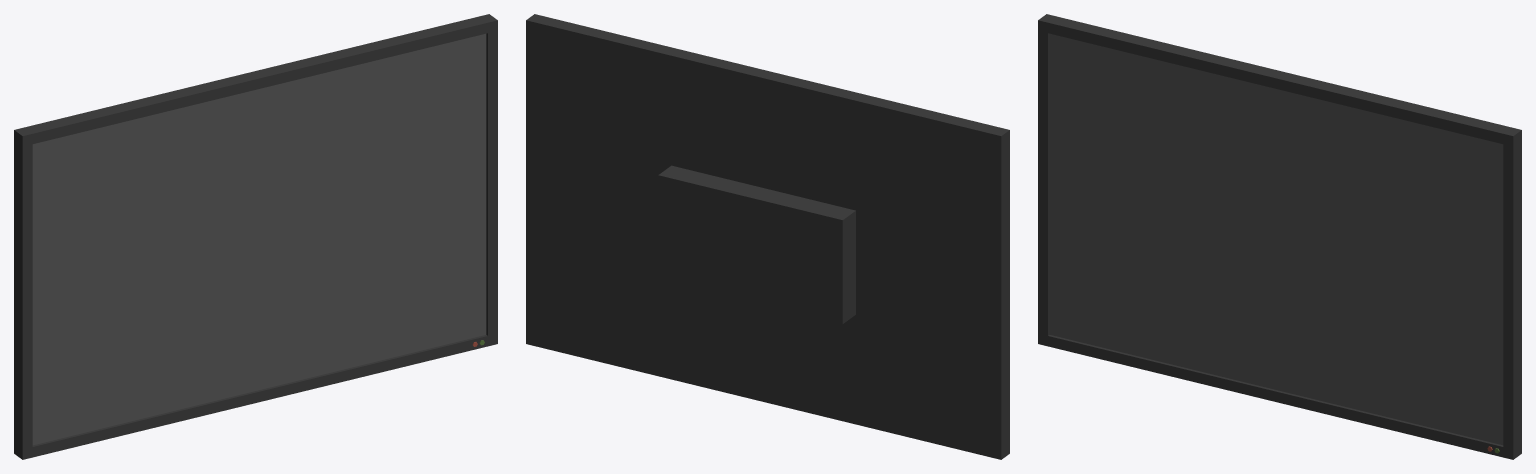
The picture shows the model from 3 angles, left to right: view 1: azimuth 30°, elevation 25°; view 2: azimuth 150°, elevation 25°; view 3: azimuth 330°, elevation 25°; orthographic projection.
Visible parts, largest first — view 1: TV_01; view 2: TV_01; view 3: TV_01.
Boxes of the visible parts, <box> form: TV_01: <box>14,14,497,459</box>; TV_01: <box>526,14,1009,459</box>; TV_01: <box>1038,14,1521,459</box>.
Size of the model in its own units: 96 by 62.5 by 7.82.
